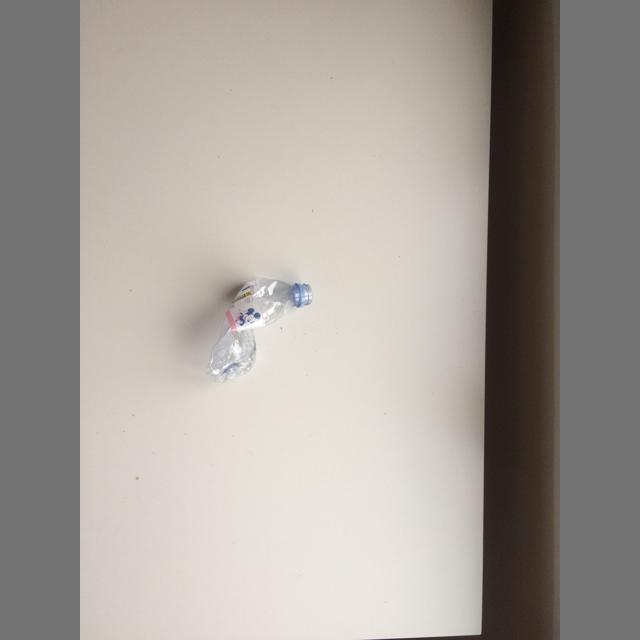litter: (205, 278, 313, 382)
